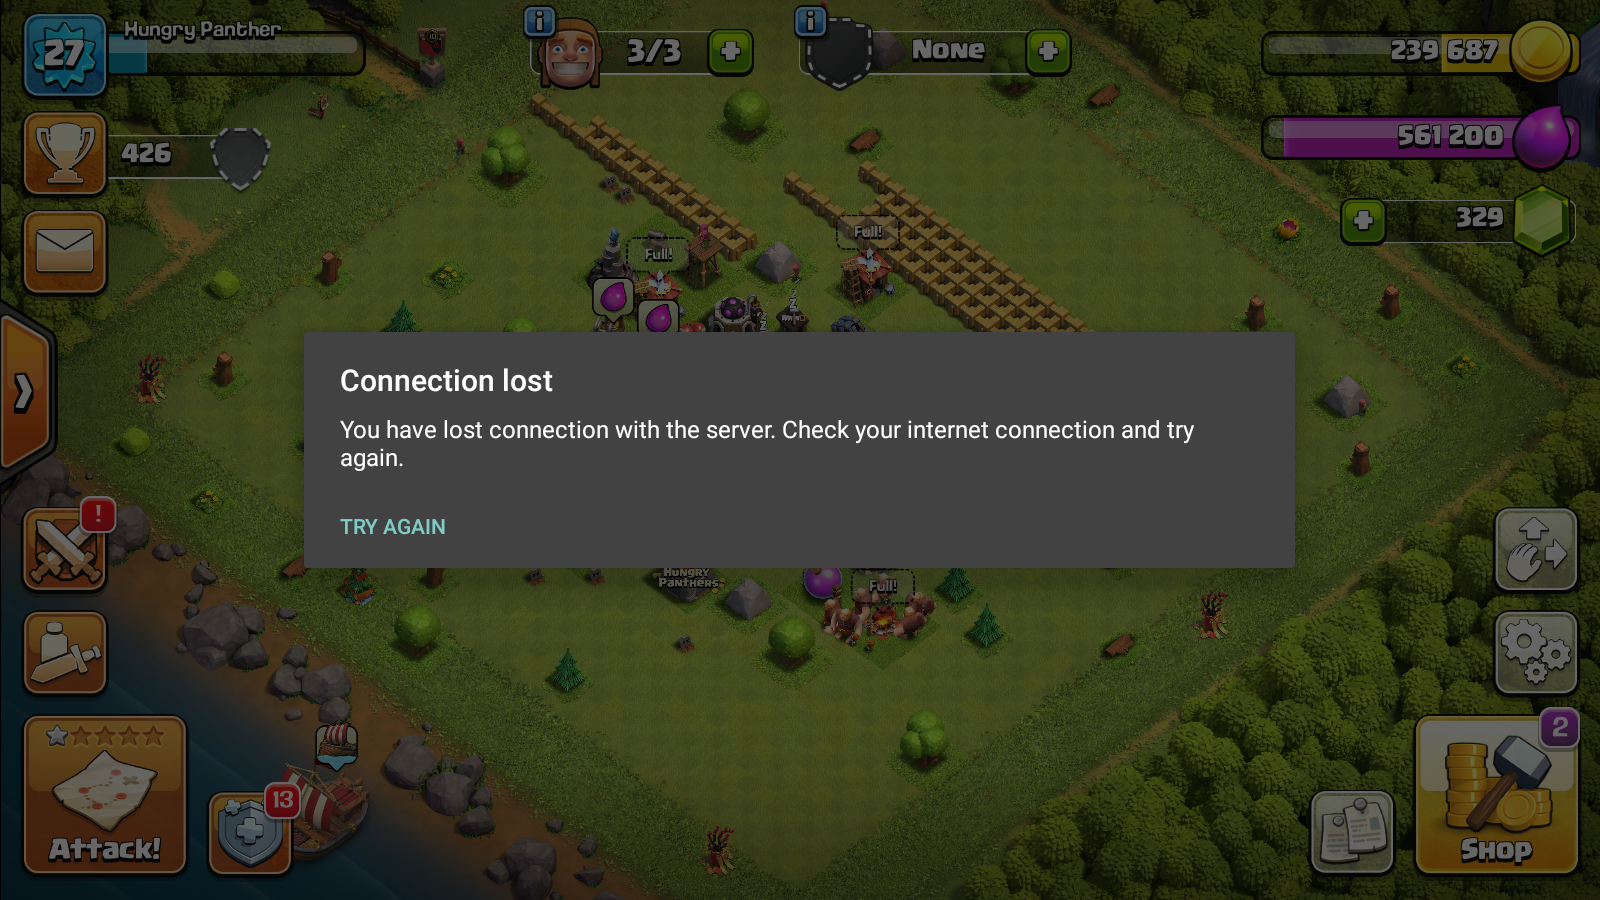connection_lost: (303, 329, 1296, 566)
try_again: (335, 512, 456, 542)
